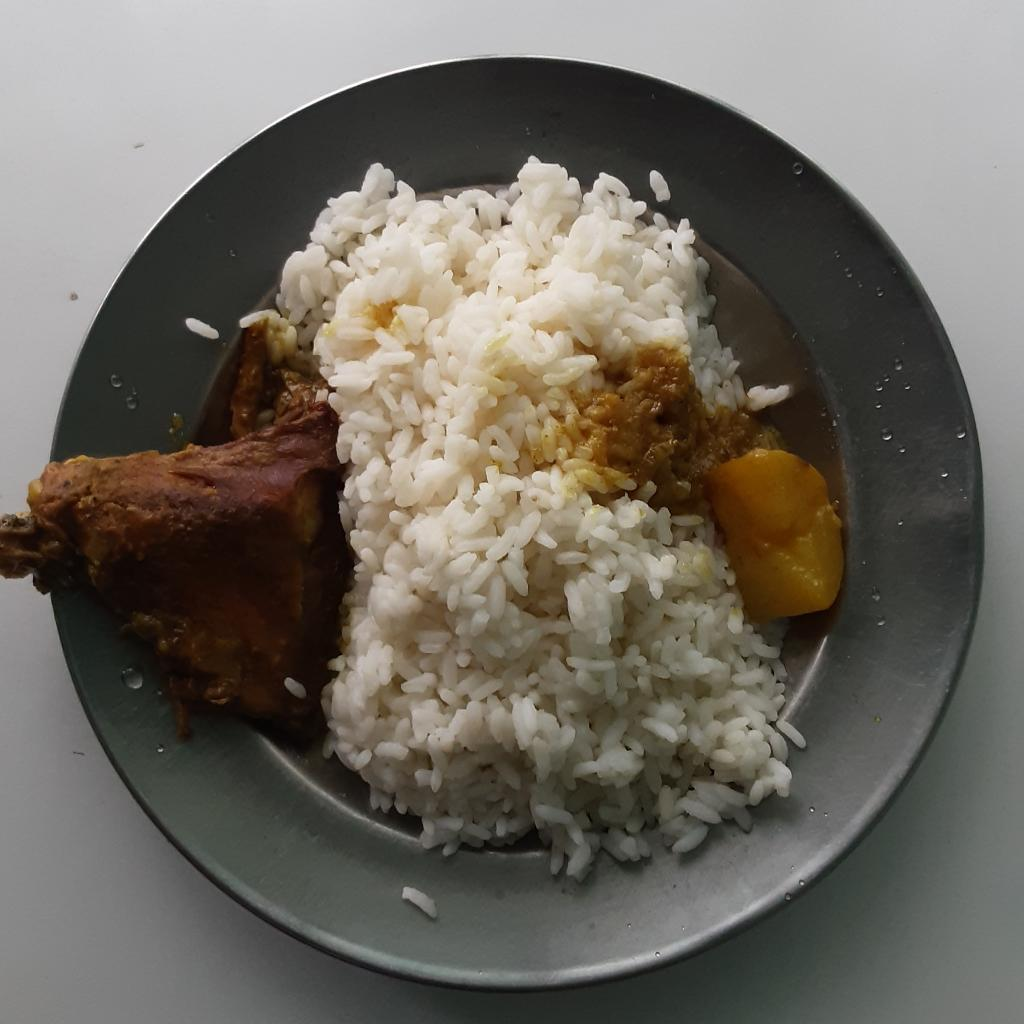fish: (3, 406, 342, 749)
potato: (698, 443, 843, 619)
rice: (237, 151, 804, 881)
